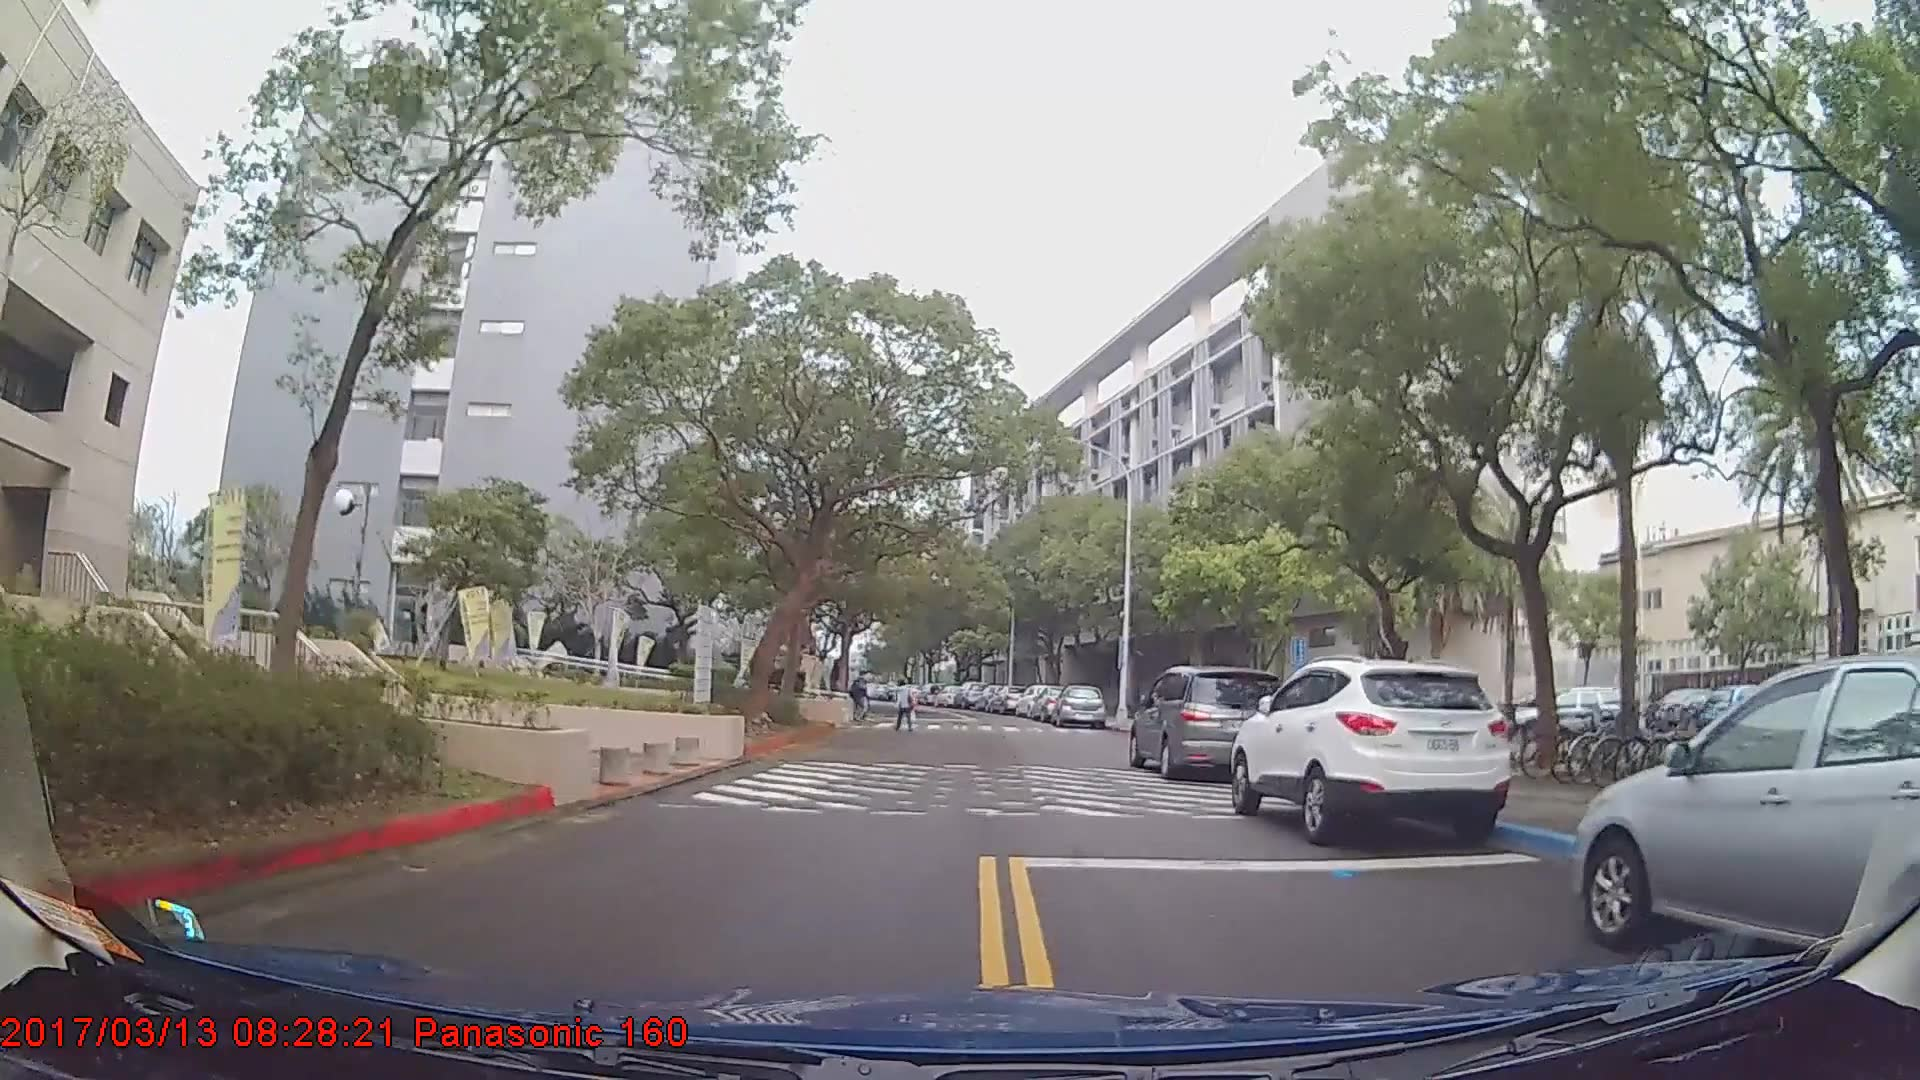pedestrian: (889, 679, 916, 735), (851, 673, 873, 725)
vehicle: (1574, 651, 1920, 976), (1230, 656, 1514, 847), (1127, 664, 1291, 780), (1494, 684, 1626, 746), (1644, 686, 1730, 734), (1700, 683, 1769, 732), (1054, 680, 1107, 730), (950, 679, 986, 709)
